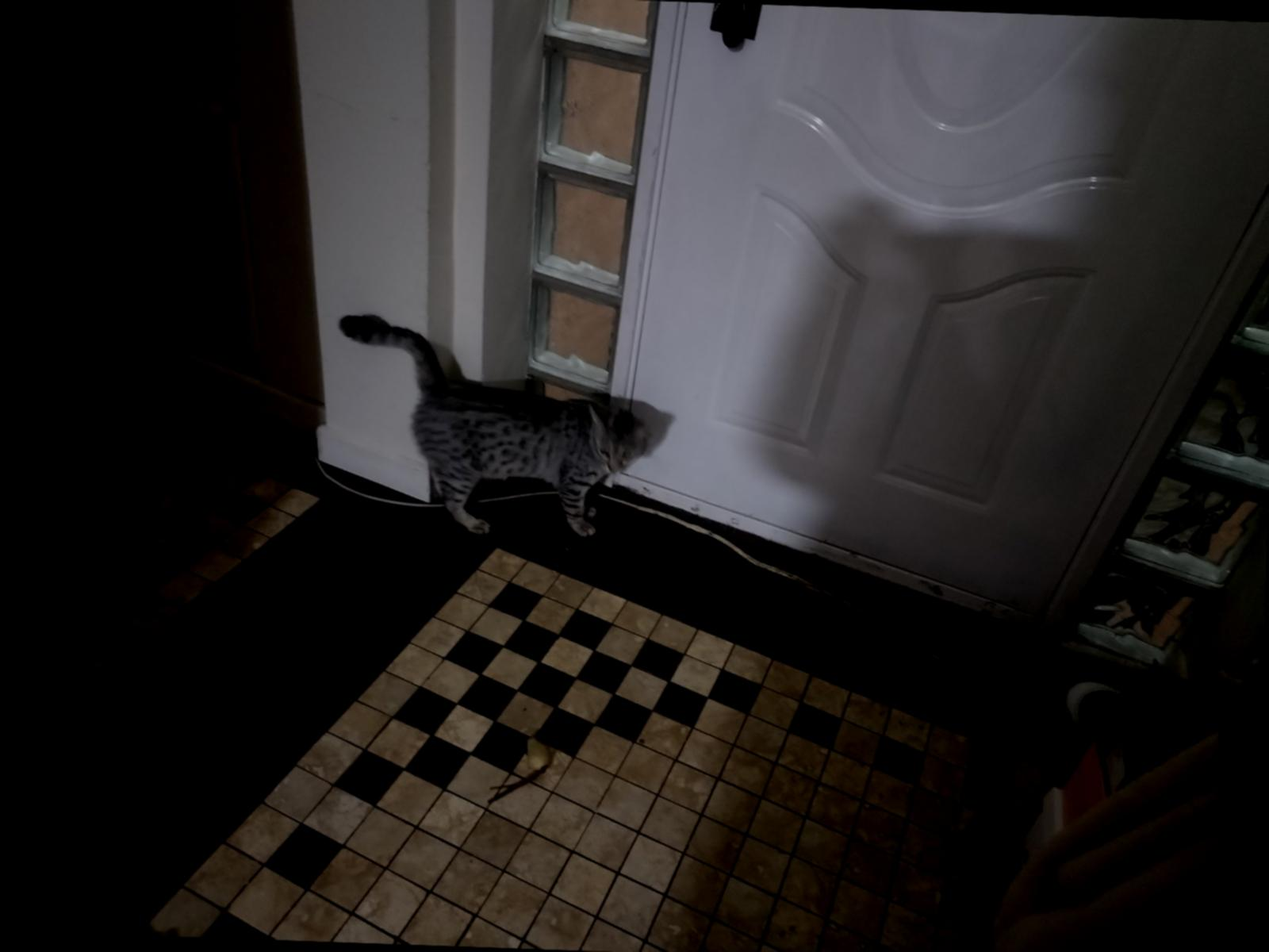macka: (333, 311, 654, 542)
